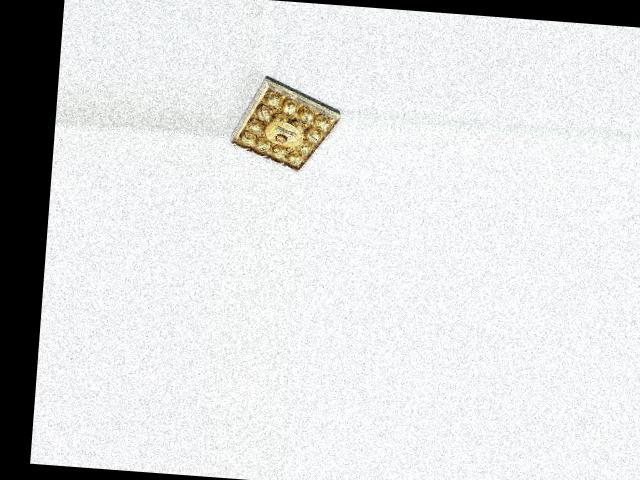chocolate: (226, 71, 345, 176)
